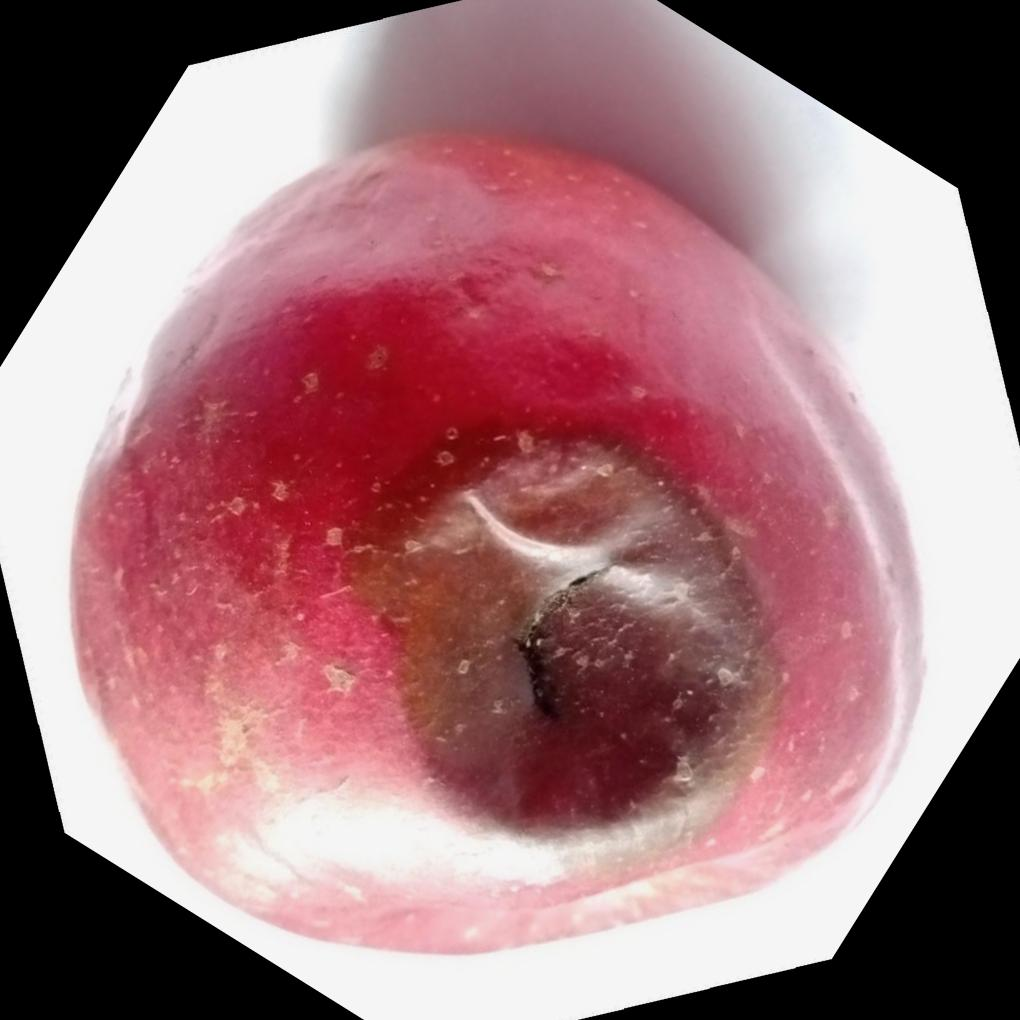FreshOrange: (61, 0, 990, 963)
